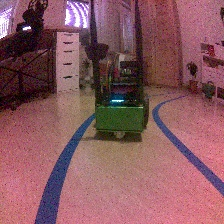rob: (93, 60, 149, 140)
